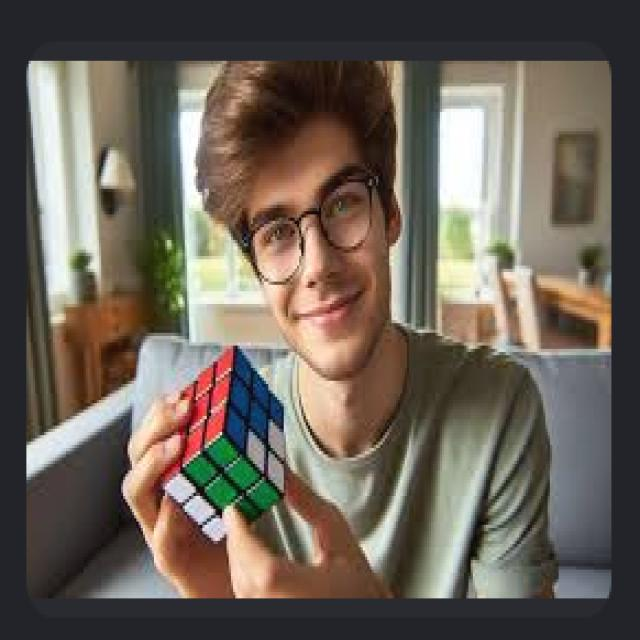Cubo-No-resuelto: (161, 346, 282, 534)
